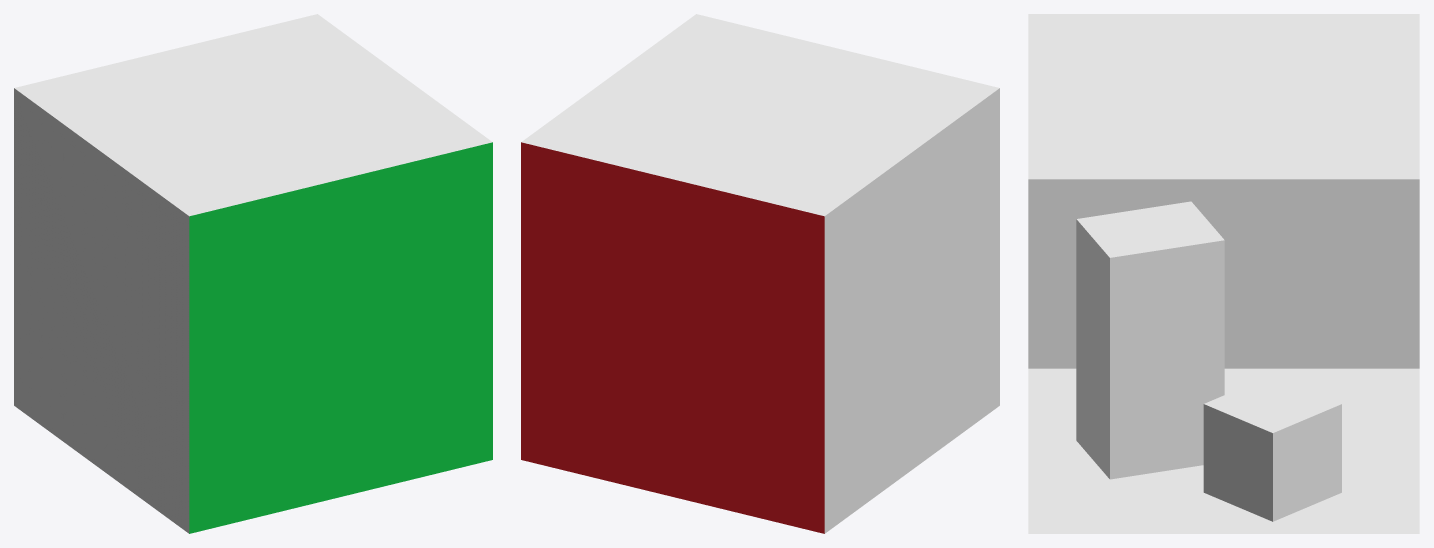
File: CornellBox.gltf
3 views of the same model, side by side, from view 1: azimuth 30°, elevation 25°; view 2: azimuth 150°, elevation 25°; view 3: azimuth 270°, elevation 25° (orthographic). The views are drawn at different scales.
Visible parts, largest first — view 1: Cube; view 2: Cube; view 3: Cube, Cube.001, Cube.002.
Boxes of the visible parts, left/top/right/bottom form: Cube: left=14, top=14, right=492, bottom=533; Cube: left=521, top=14, right=999, bottom=533; Cube: left=1028, top=14, right=1419, bottom=533; Cube.001: left=1076, top=201, right=1224, bottom=479; Cube.002: left=1203, top=375, right=1341, bottom=521.
Bounding box in the file's own units: 8 × 8 × 8.
1 material, 1 textured.
